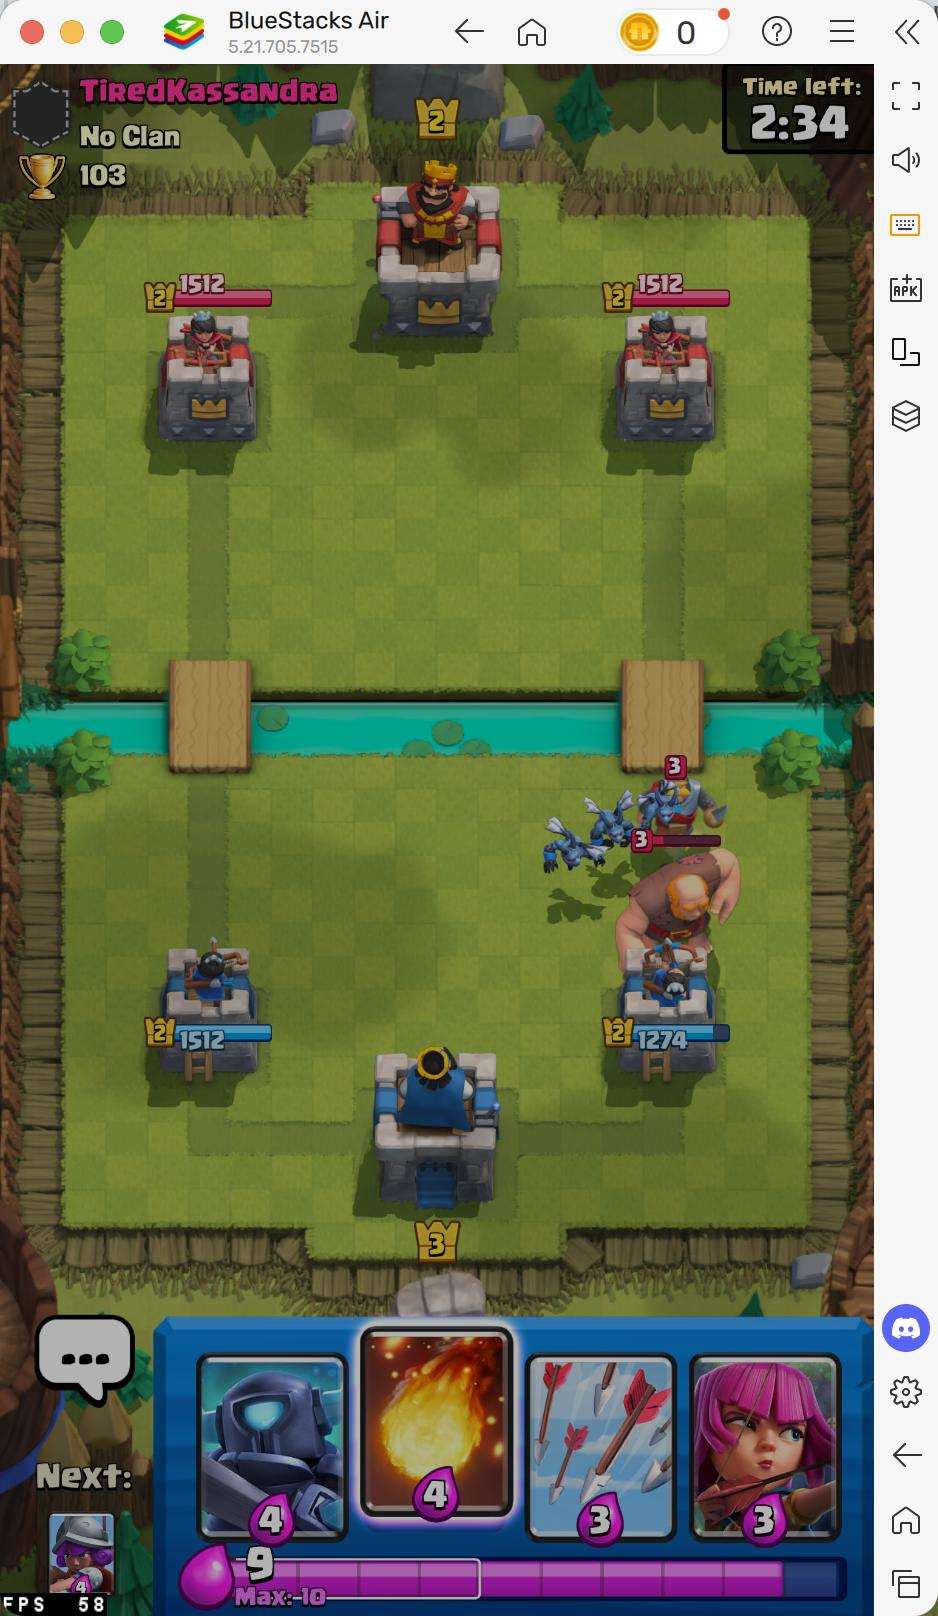1: (201, 272, 213, 296), (659, 271, 670, 296), (201, 1029, 212, 1052), (636, 272, 647, 295), (179, 272, 189, 295), (179, 1029, 189, 1051), (638, 1029, 648, 1051)
14: (614, 944, 717, 1076), (156, 946, 260, 1076)
2: (748, 102, 777, 143), (668, 271, 685, 295), (210, 271, 227, 295), (210, 1029, 227, 1052), (645, 1030, 661, 1051)
3: (747, 1501, 778, 1539), (792, 103, 820, 144), (585, 1501, 615, 1539)
4: (253, 1500, 288, 1539), (419, 1475, 452, 1514), (819, 103, 851, 141), (671, 1029, 689, 1052), (73, 1577, 89, 1598)
5: (645, 272, 662, 296), (188, 272, 204, 296), (188, 1029, 203, 1052)
9: (659, 1028, 674, 1052)
Enemy Tower: (243, 1543, 278, 1587)
Friendly Winner: (613, 312, 717, 445), (155, 314, 257, 445)
